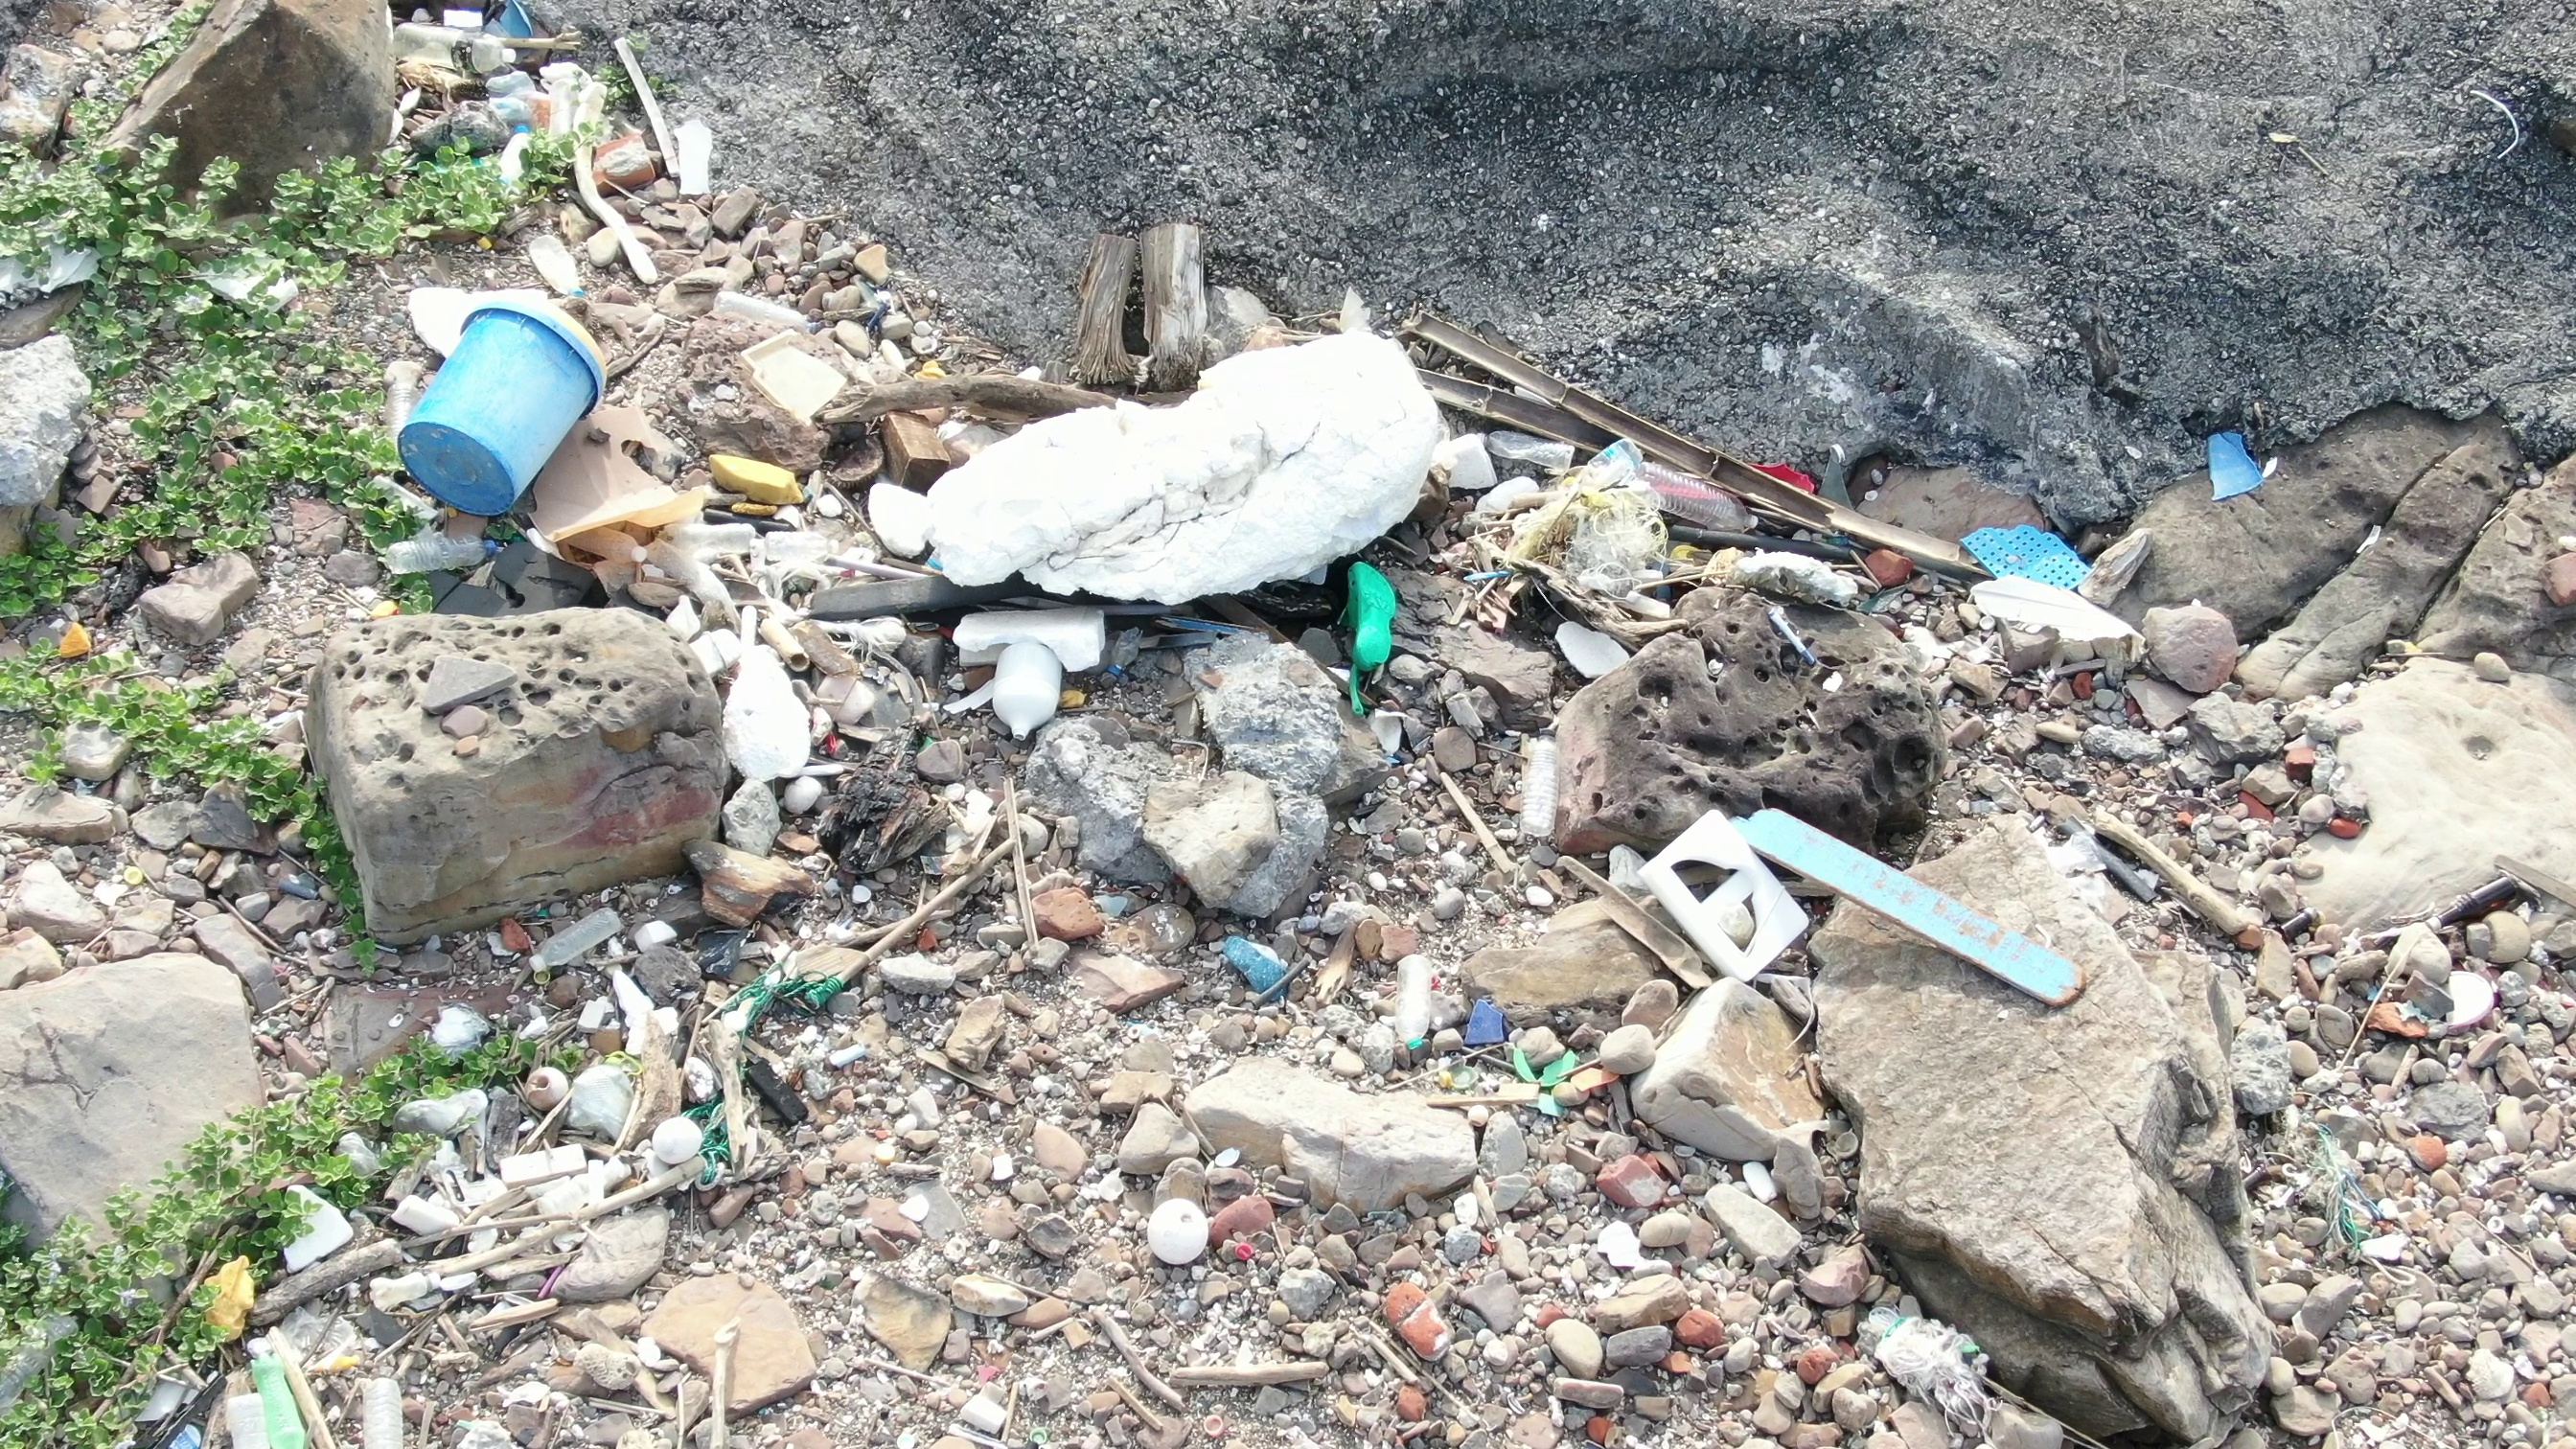bottle: (669, 563, 826, 787), (1391, 955, 1592, 1109), (1612, 451, 1773, 543), (389, 16, 534, 81), (375, 533, 513, 582)
garbage: (865, 292, 1453, 616), (1622, 801, 2114, 1014), (1454, 433, 1767, 619), (651, 948, 869, 1198), (391, 294, 614, 524), (166, 1323, 324, 1449), (1322, 547, 1422, 718), (1955, 518, 2098, 607), (2197, 416, 2272, 524), (1221, 925, 1313, 1005)
